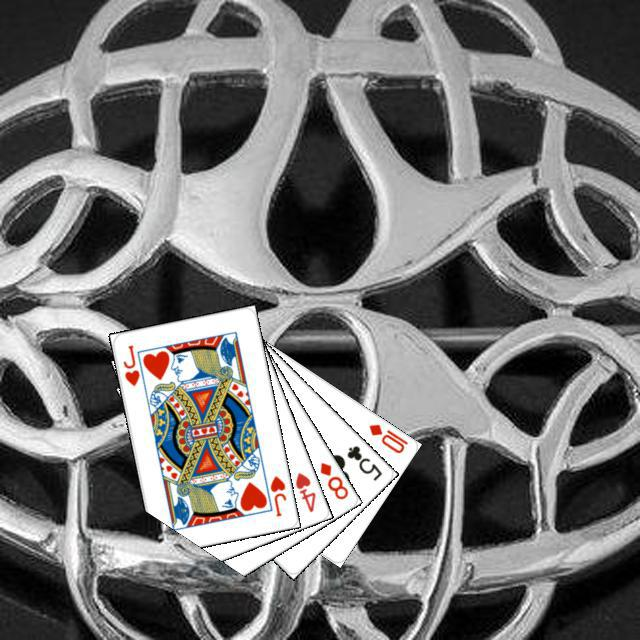10d: (364, 419, 410, 455)
4h: (290, 467, 317, 514)
5c: (342, 441, 384, 482)
8d: (315, 457, 350, 501)
Jh: (265, 471, 288, 518), (118, 340, 141, 387)
